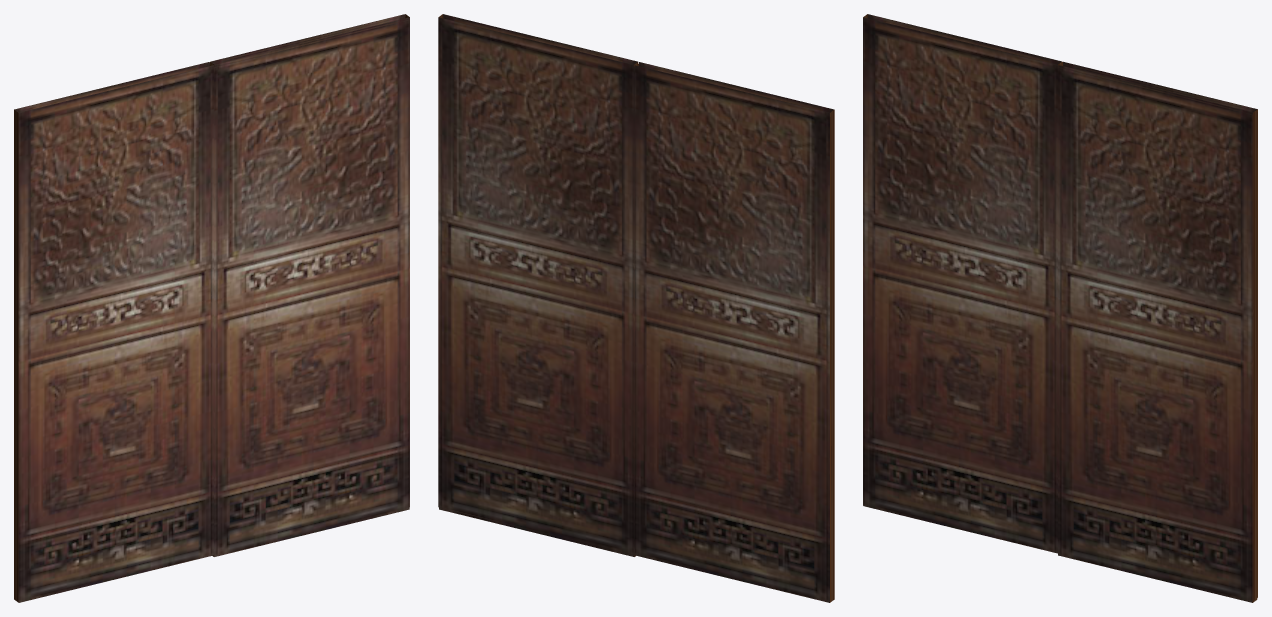
File: Sn05door.obj
3 views of the same model, side by side, from view 1: azimuth 30°, elevation 25°; view 2: azimuth 150°, elevation 25°; view 3: azimuth 330°, elevation 25° (orthographic).
Visible parts, largest first — view 1: 2, 1, 3, 0; view 2: 3, 0, 1; view 3: 2, 1, 0, 3.
Part boxes in pixels (x1=…): 2: x1=14, y1=62, x2=214, y2=602; 1: x1=209, y1=16, x2=409, y2=556; 3: x1=14, y1=62, x2=213, y2=602; 0: x1=210, y1=14, x2=409, y2=506; 3: x1=634, y1=62, x2=834, y2=602; 0: x1=438, y1=14, x2=638, y2=554; 1: x1=439, y1=17, x2=638, y2=556; 2: x1=863, y1=14, x2=1061, y2=553; 1: x1=1058, y1=64, x2=1257, y2=602; 0: x1=1058, y1=61, x2=1257, y2=600; 3: x1=863, y1=14, x2=1062, y2=505.
Size of the model in its own units: 50.63 by 60.81 by 1.02.
